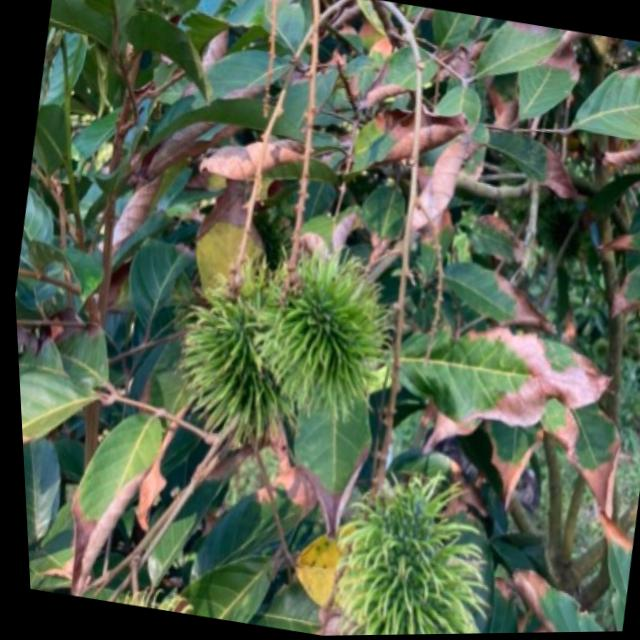Leaf Blight: (290, 1, 579, 299), (118, 11, 318, 264), (447, 303, 640, 557), (507, 24, 640, 156)
